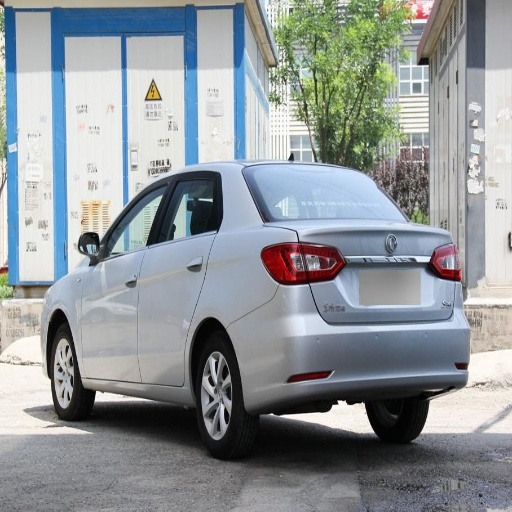back_bumper: (228, 280, 471, 413)
back_glass: (243, 166, 401, 221)
back_left_door: (138, 171, 218, 382)
tailgate: (287, 218, 449, 321)
